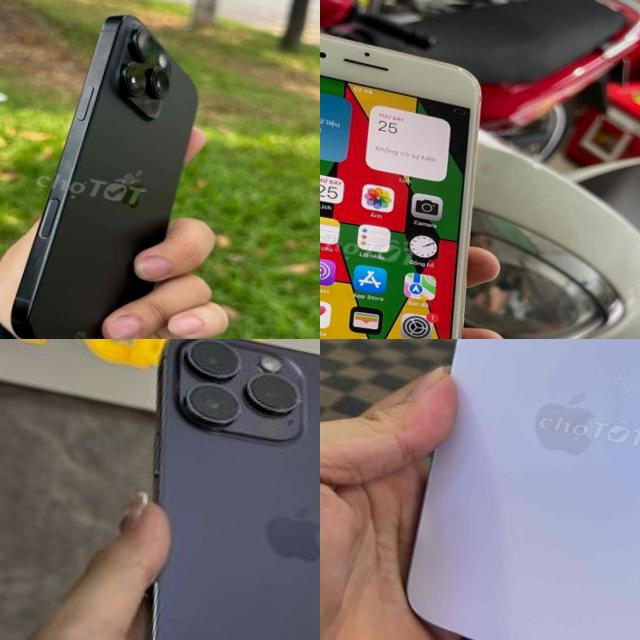gen_14: (77, 339, 320, 640)
gen_15: (373, 339, 640, 640)
gen_16: (0, 0, 230, 339)
gen_7_8: (320, 33, 481, 339)
